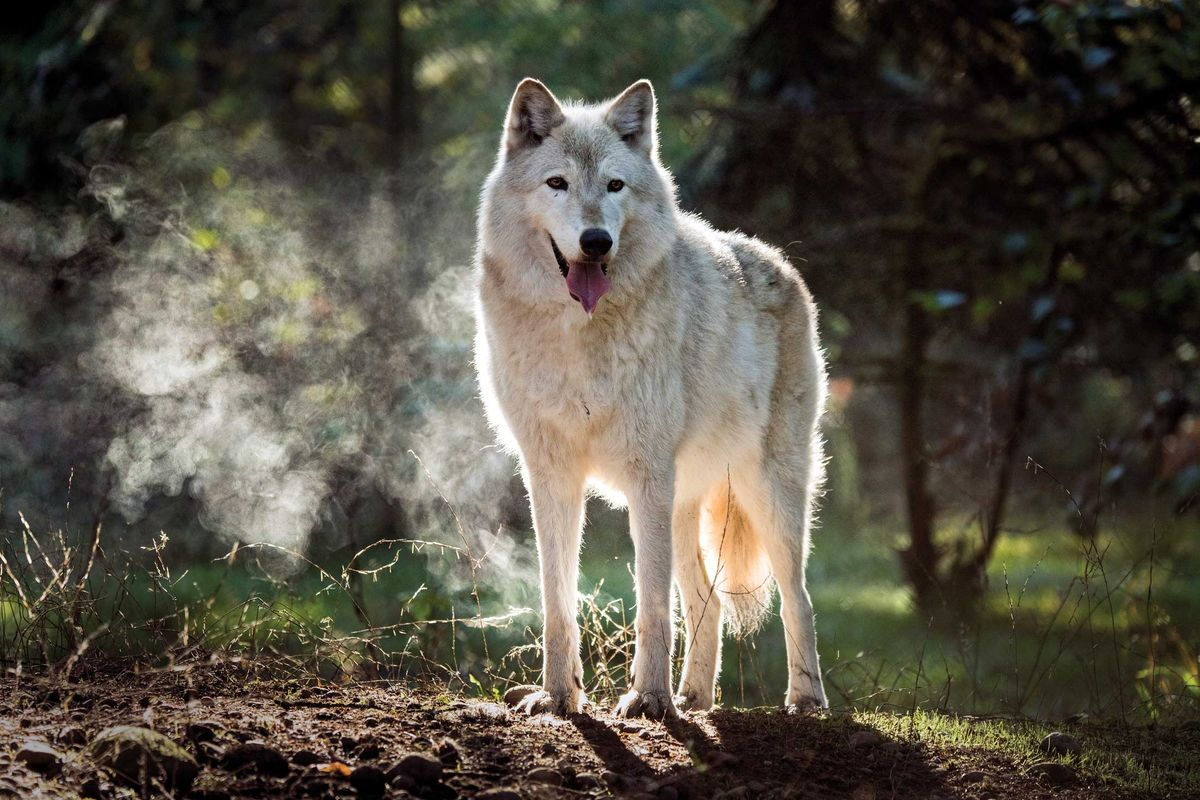wolf: (440, 73, 889, 744)
